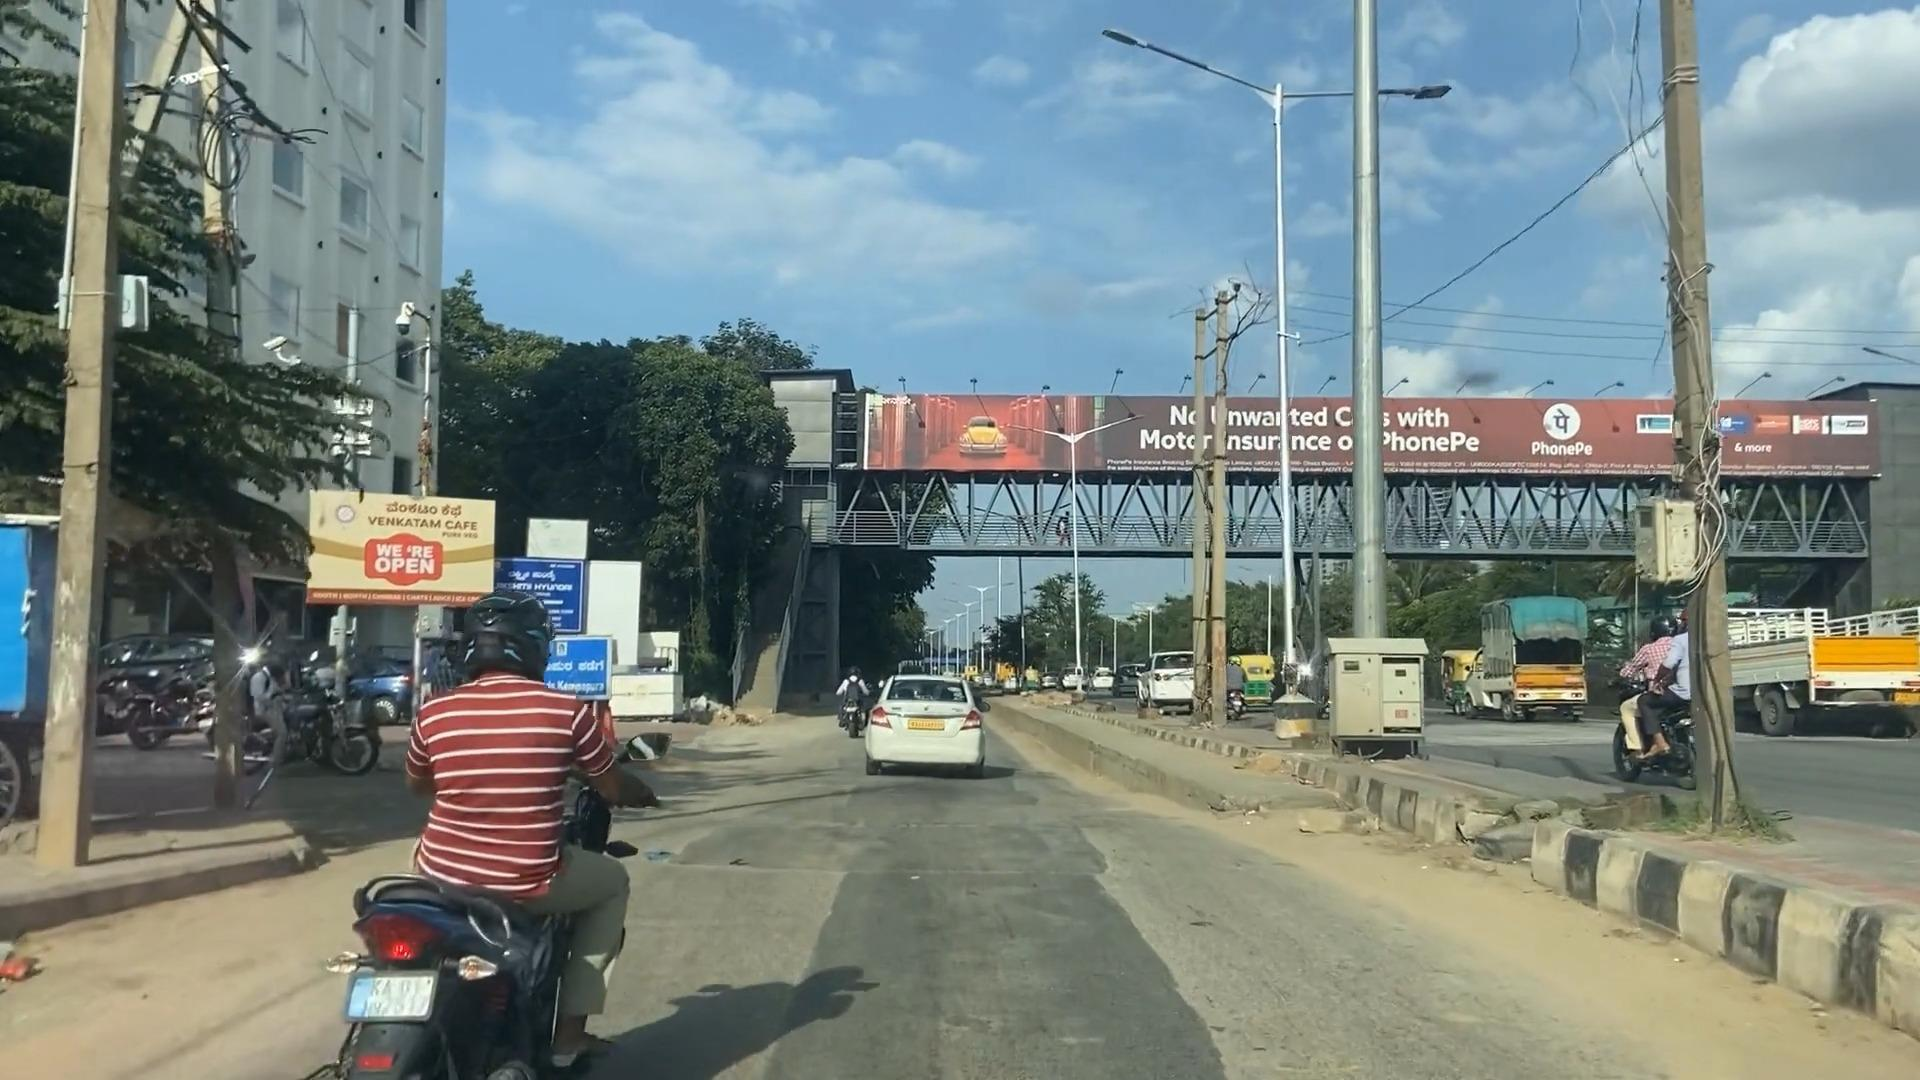LMV: (803, 655, 944, 769)
UnsurfacedRoad: (691, 796, 1145, 943)
